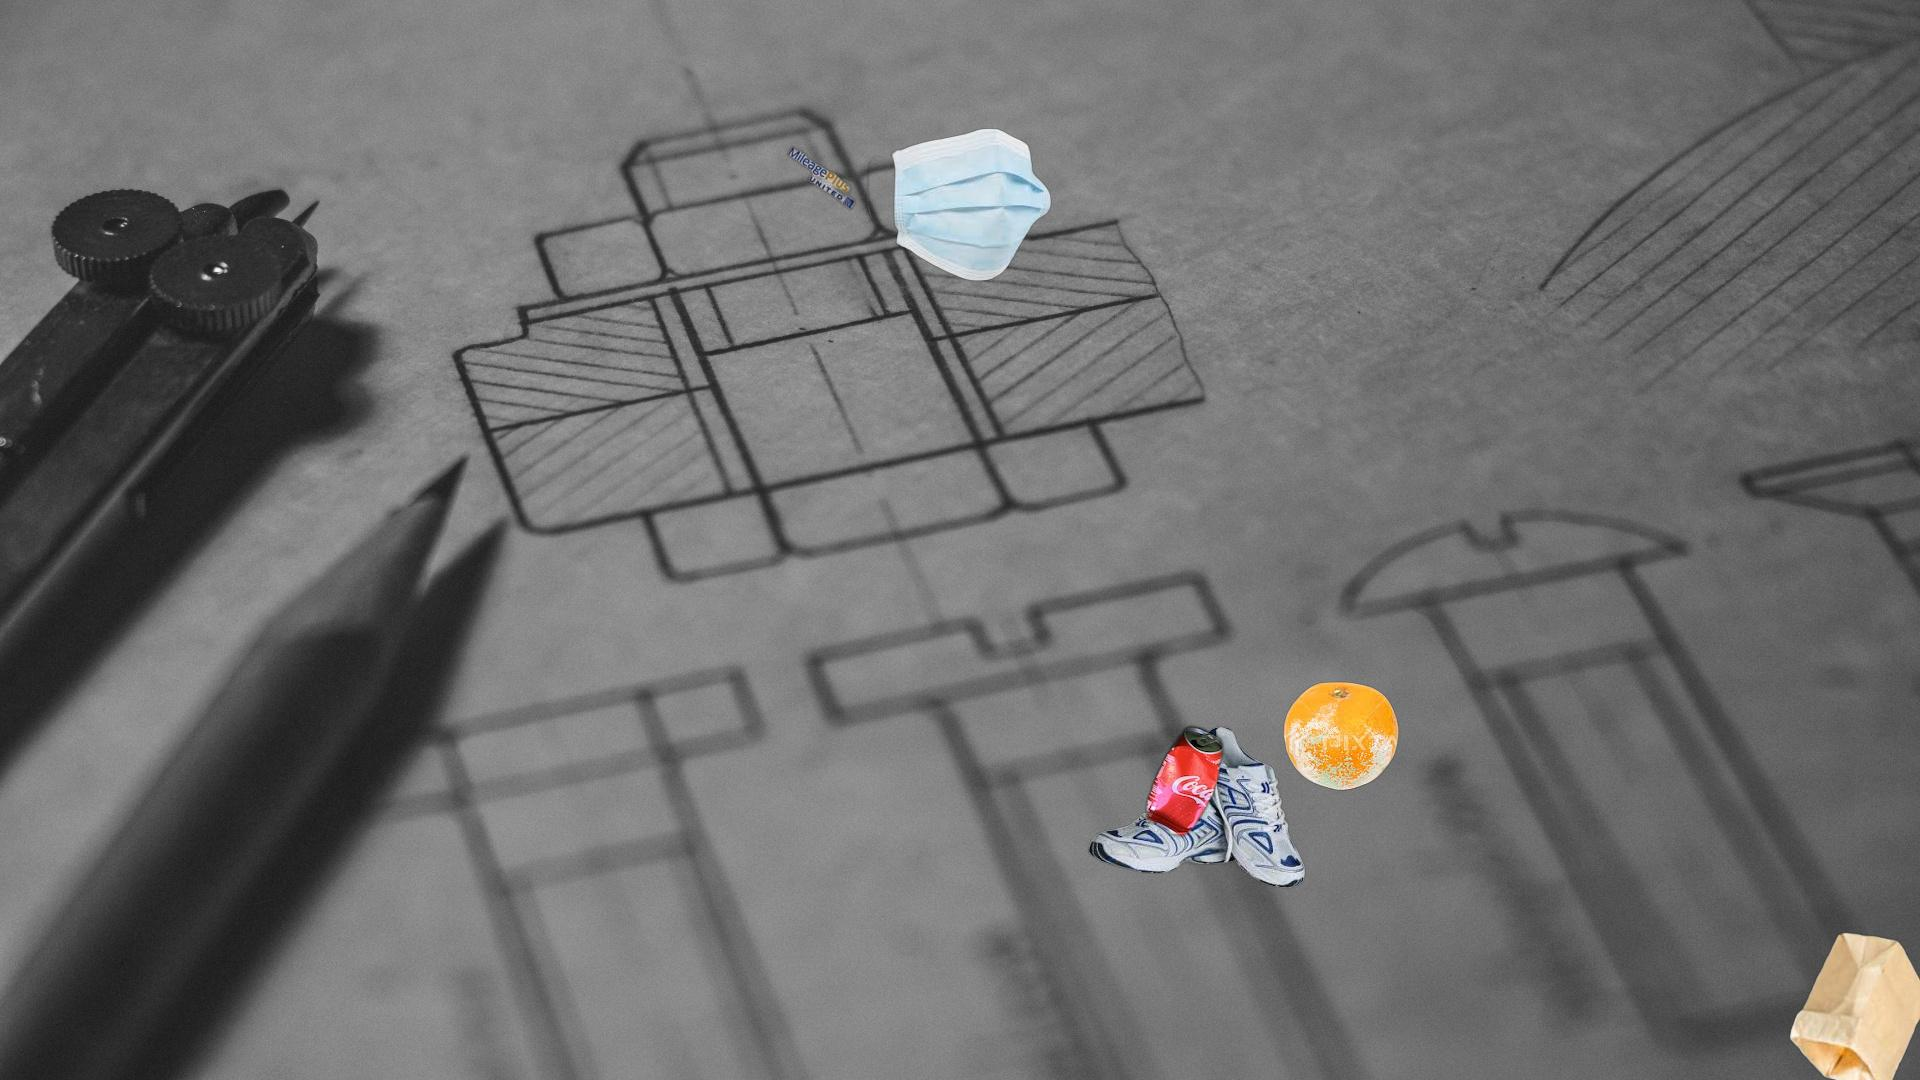biological: (1280, 679, 1400, 793)
metal-cans: (1142, 721, 1228, 843)
paper: (651, 34, 860, 214)
paper-bag: (1787, 931, 1920, 1080)
shoes: (1087, 724, 1308, 891)
trash: (864, 127, 1054, 284)
